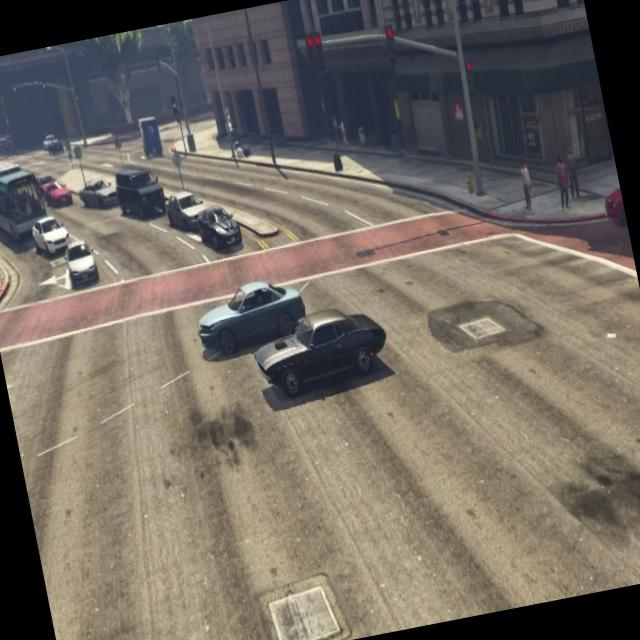Red-Signal: (448, 24, 490, 109), (372, 11, 410, 81), (300, 21, 336, 84)
